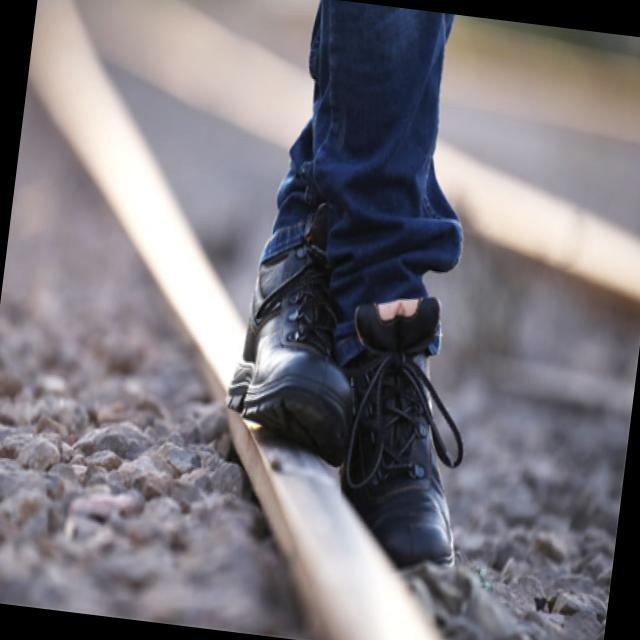boots: (206, 165, 505, 584)
